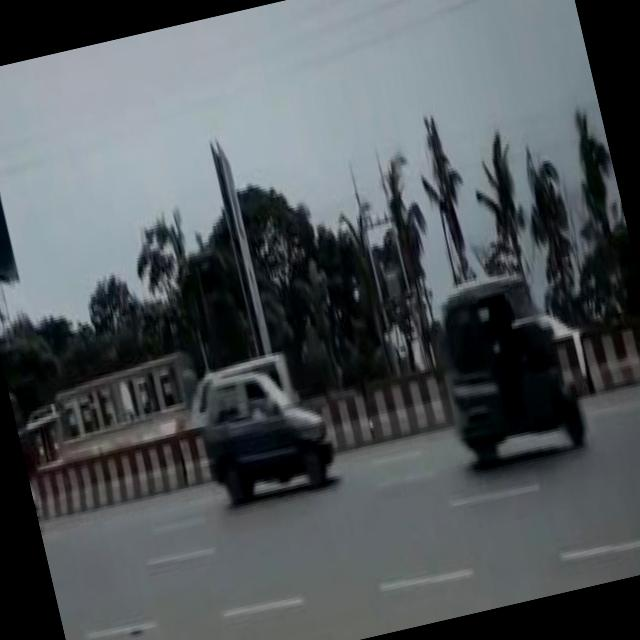car: (190, 356, 337, 506)
motorcycle: (426, 258, 590, 470)
